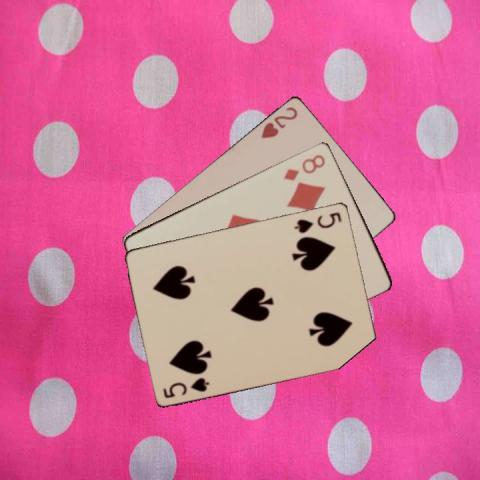2h: (258, 103, 299, 140)
5s: (292, 208, 344, 235), (160, 374, 211, 399)
8d: (280, 151, 327, 182)
